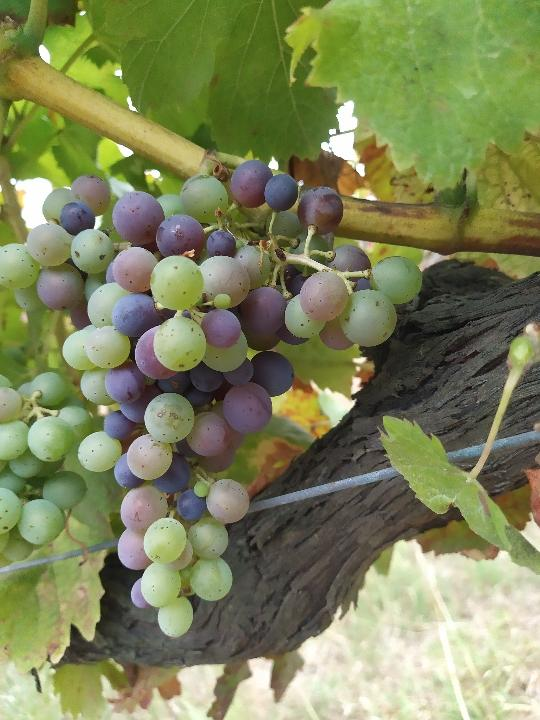grape: (0, 157, 425, 641)
